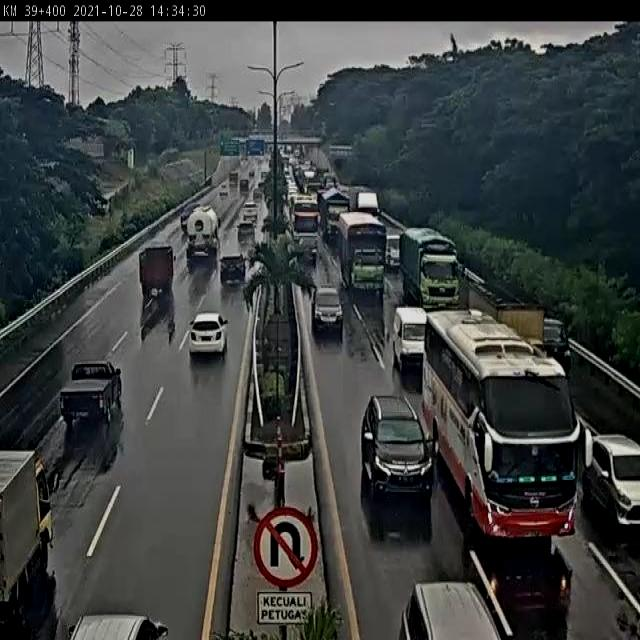Bus: (426, 308, 583, 552)
Car: (396, 578, 513, 638), (366, 387, 426, 498), (51, 346, 123, 434), (582, 434, 640, 532), (183, 300, 232, 368), (64, 613, 170, 638), (311, 286, 343, 336), (541, 319, 570, 373), (219, 252, 247, 284), (295, 232, 319, 264), (385, 234, 401, 271), (241, 201, 259, 226), (219, 183, 229, 198)
Truck: (0, 451, 54, 631), (394, 224, 462, 304), (469, 270, 545, 331), (336, 203, 385, 297), (182, 206, 222, 256), (138, 245, 174, 297), (287, 198, 324, 242), (324, 187, 350, 239)
Van: (392, 305, 426, 373)
